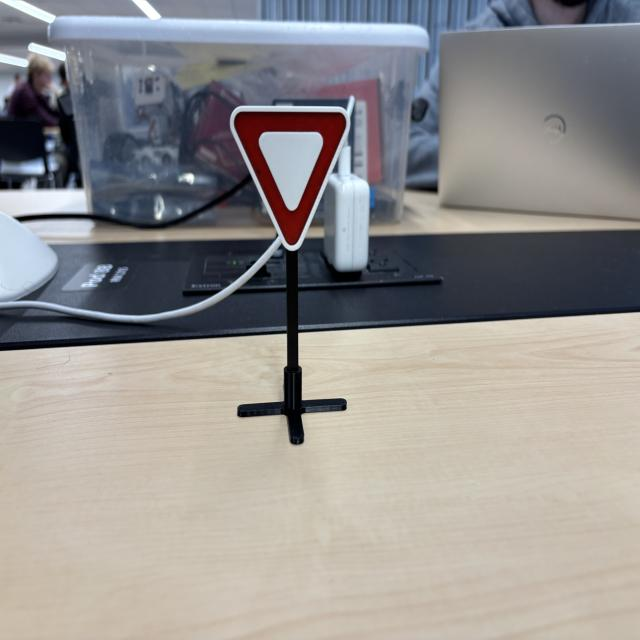sign_yield: (231, 105, 351, 250)
